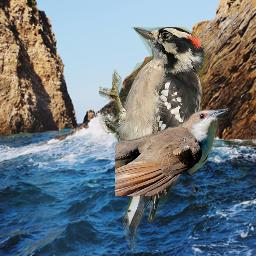Cuckoo: (115, 109, 228, 196)
Woodpecker: (99, 27, 209, 251)
